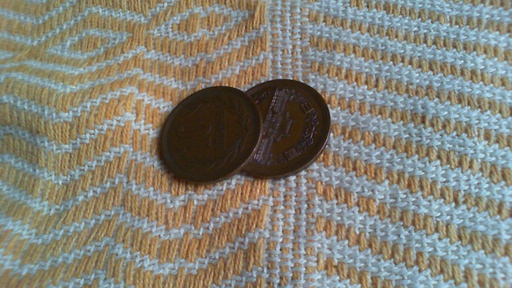10yen: (225, 79, 331, 180), (159, 86, 263, 185)
